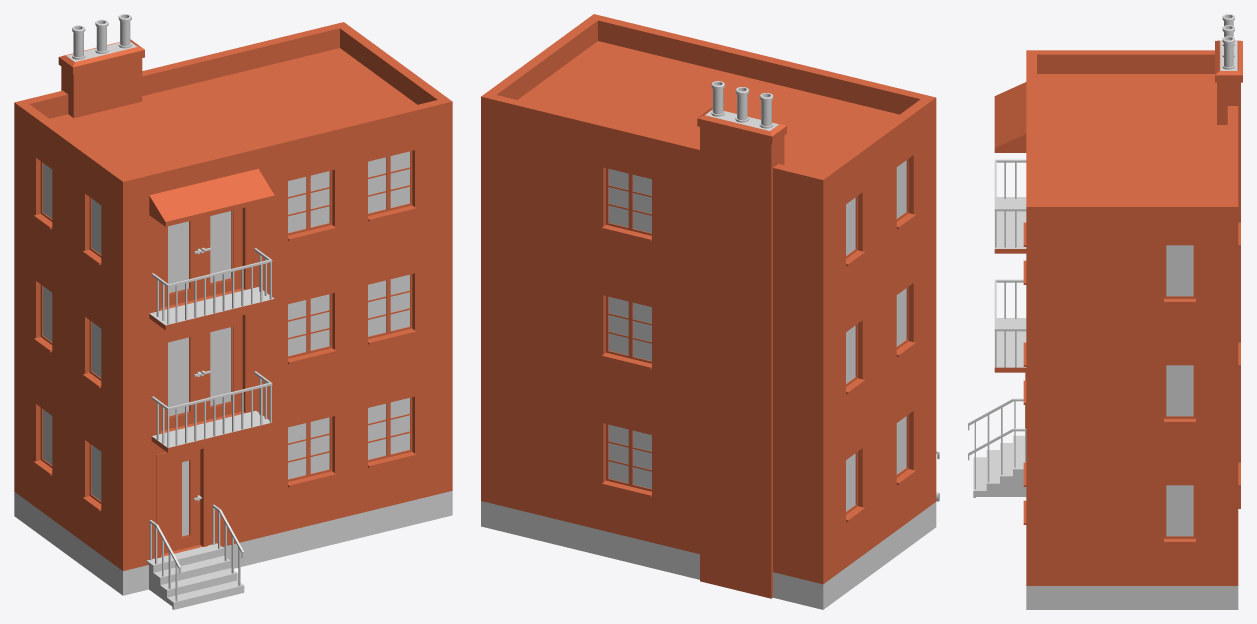
The model's file is BuildingModel.fbx.
3 renders of one model, left to right at view 1: azimuth 30°, elevation 25°; view 2: azimuth 150°, elevation 25°; view 3: azimuth 270°, elevation 25°, orthographic. The views are drawn at different scales.
Parts seen in each view (by area): view 1: Residential_building_007; view 2: Residential_building_007; view 3: Residential_building_007.
Part boxes in pixels (x1=…): Residential_building_007: x1=14, y1=14, x2=452, y2=609; Residential_building_007: x1=481, y1=14, x2=939, y2=609; Residential_building_007: x1=968, y1=14, x2=1242, y2=609.
Size of the model in its own units: 617 by 841 by 450.
